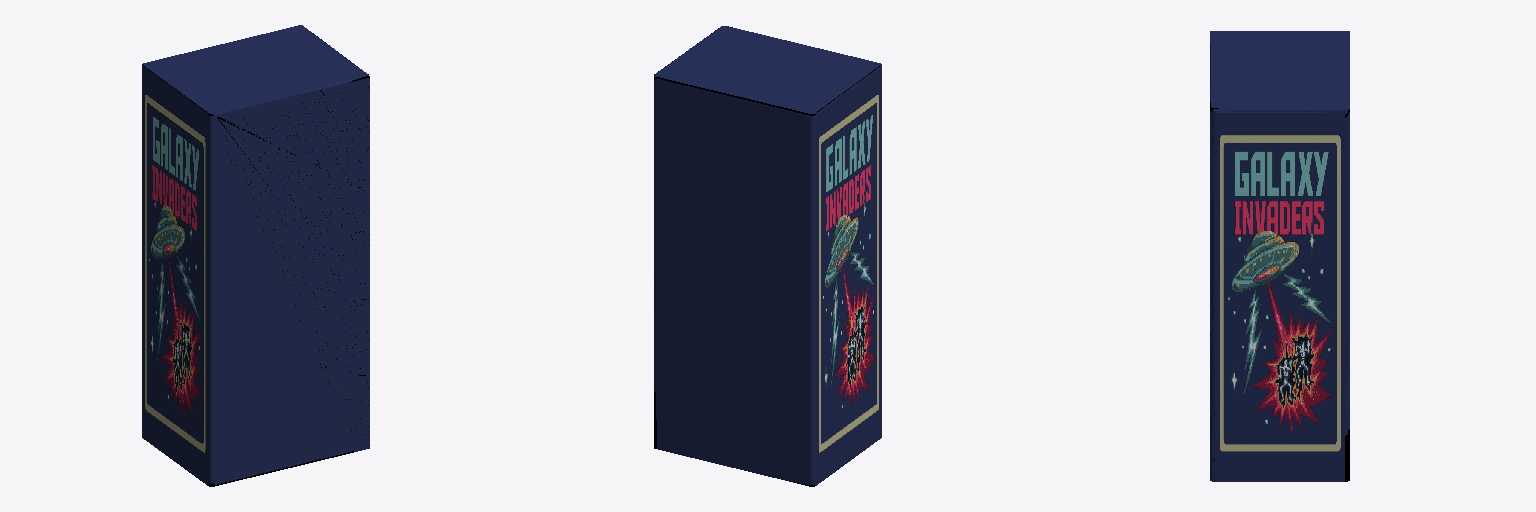
The picture shows the model from 3 angles: view 1: azimuth 30°, elevation 25°; view 2: azimuth 150°, elevation 25°; view 3: azimuth 270°, elevation 25°; orthographic projection.
Visible parts, largest first — view 1: Box003; view 2: Box003; view 3: Box003.
Boxes of the visible parts, x1=… form: Box003: x1=142, y1=25, x2=369, y2=486; Box003: x1=654, y1=26, x2=881, y2=486; Box003: x1=1210, y1=31, x2=1349, y2=481.
Bounding box in the file's own units: 39.37 × 86.61 × 29.53.
10 materials, 10 textured.